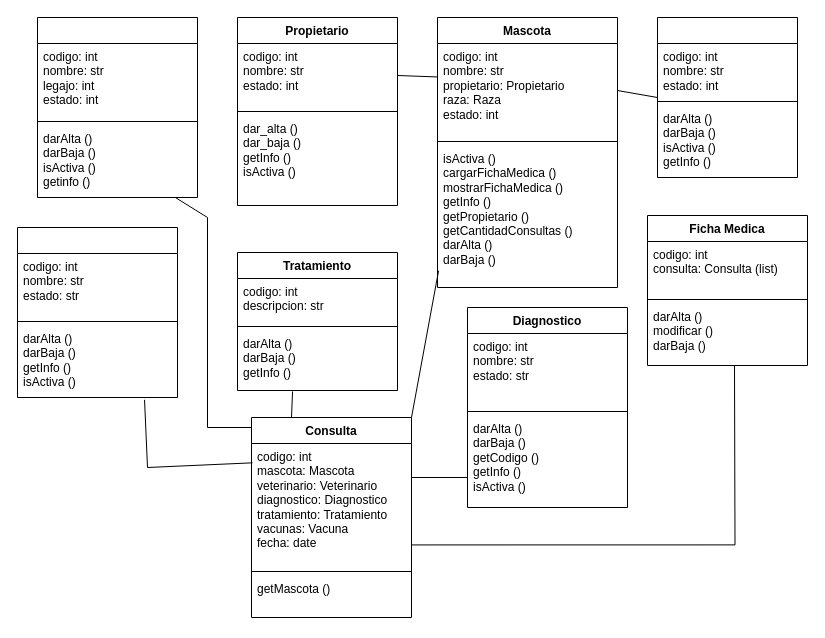
Image size: 825x638. Some labels were removed from this diagram. The shapes that lost their labels are listed below. From the top down, each one's box as (x1, y1, x2, y2) in pixels, then its label:
(36, 16, 198, 198): Veterinario
(656, 16, 798, 178): Raza
(16, 226, 178, 398): Vacuna
